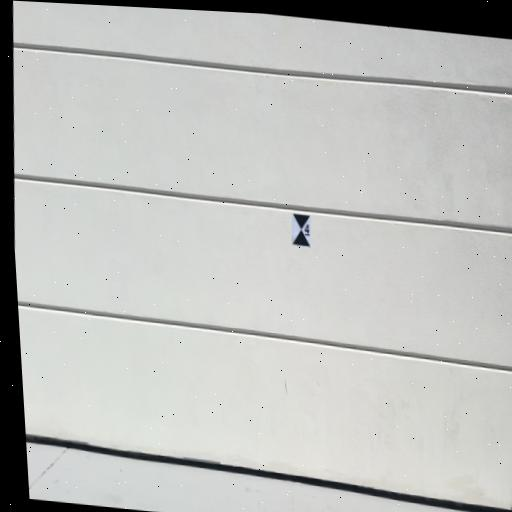target4: (290, 213, 313, 248)
